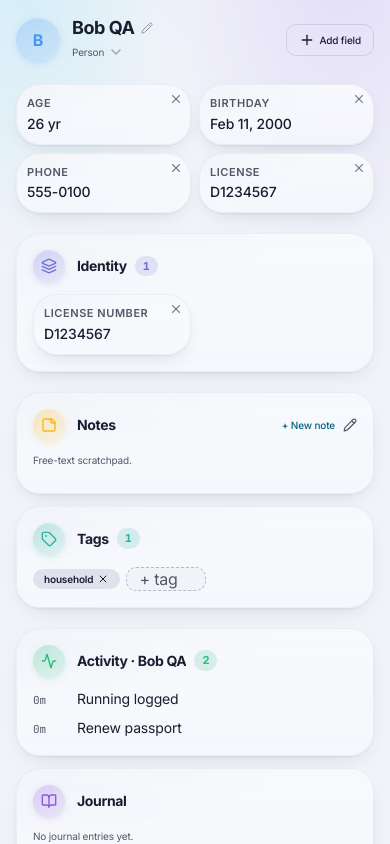
Test case: fields › deletes an identity field
Later steps or results of the test are not shown.
Check: the text "Bob QA" is shown, box [72,17,134,40]
Click the button with test id "info-remove-Phone" at (176, 168), box [164,156,188,180]
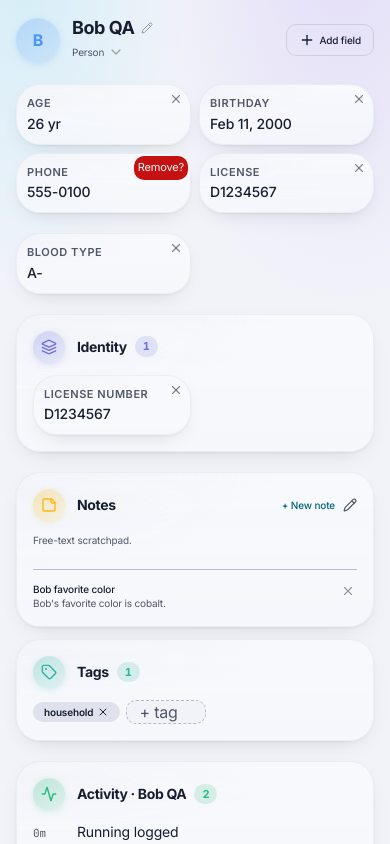
Check: the button with test id "info-remove-Phone" reads "Remove?", box [134,156,188,180]
